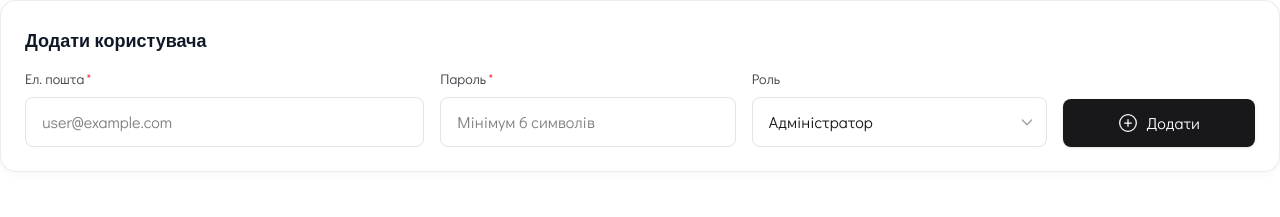
Scenario: CreateUserForm › rejects a password shorter than 6 characters
This screenshot has width=1280, height=217.
Type "a@b.c" into the field labelled "Ел. пошта" at (225, 122), box [25, 97, 424, 147]
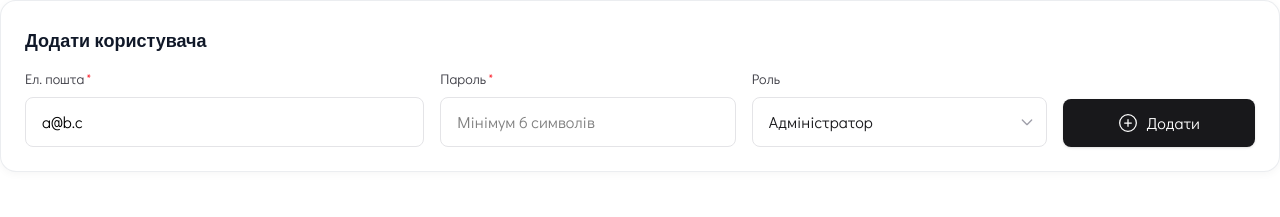
Type "123" into the password field labelled "Пароль" at (588, 122), box [440, 97, 736, 147]
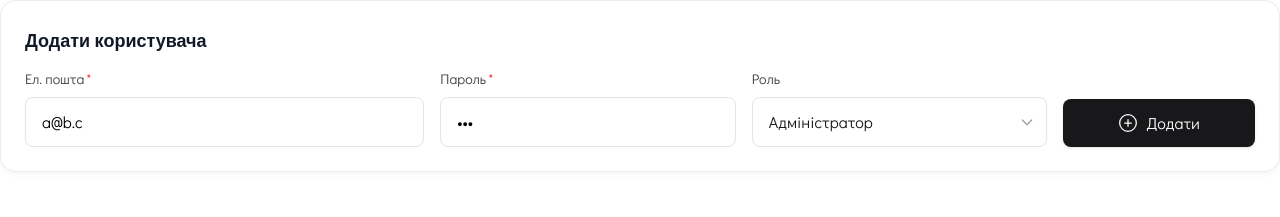
Submit the form "Ел. пошта* Пароль* Роль Додати", box [25, 69, 1255, 147]
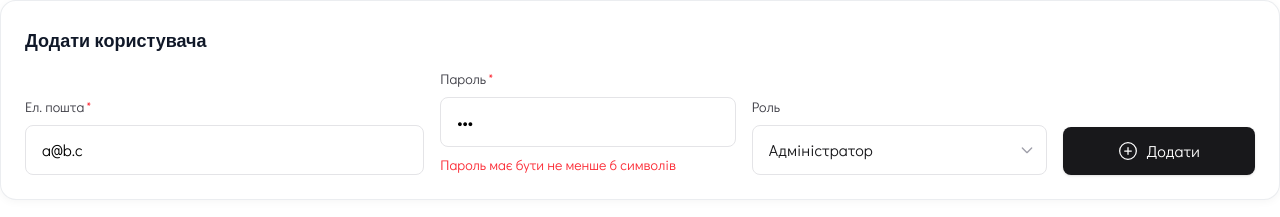
Expected: the text "Пароль має бути не менше 6 символів" is shown, [440, 155, 676, 174]
